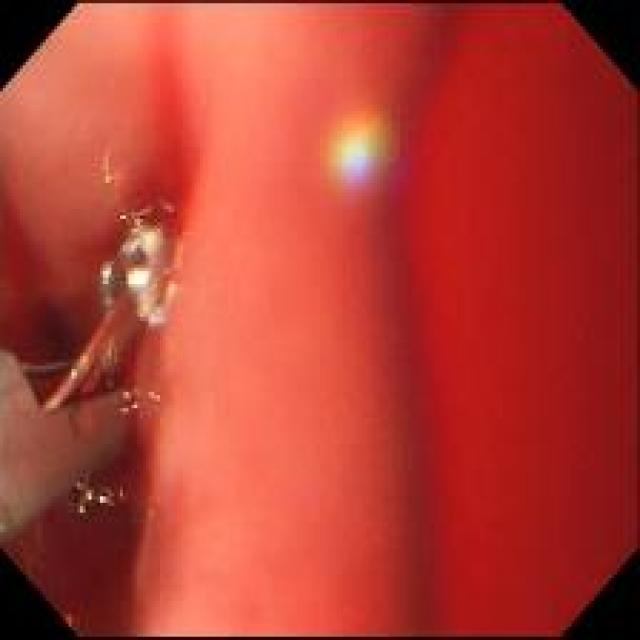color misalignment: (362, 15, 636, 634), (323, 105, 406, 194), (118, 487, 126, 503)
instrument: (2, 208, 169, 544)
specularity: (127, 269, 153, 290)
